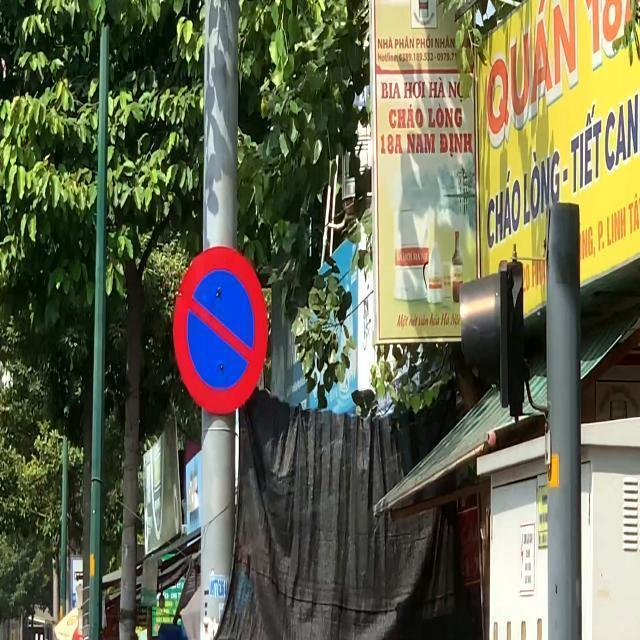131a-cam-do-xe: (170, 246, 266, 414)
